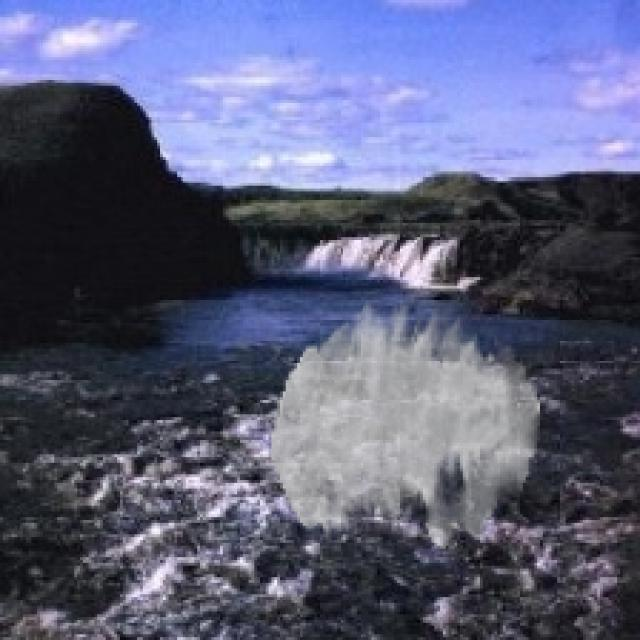Smoke: (271, 300, 540, 549)
